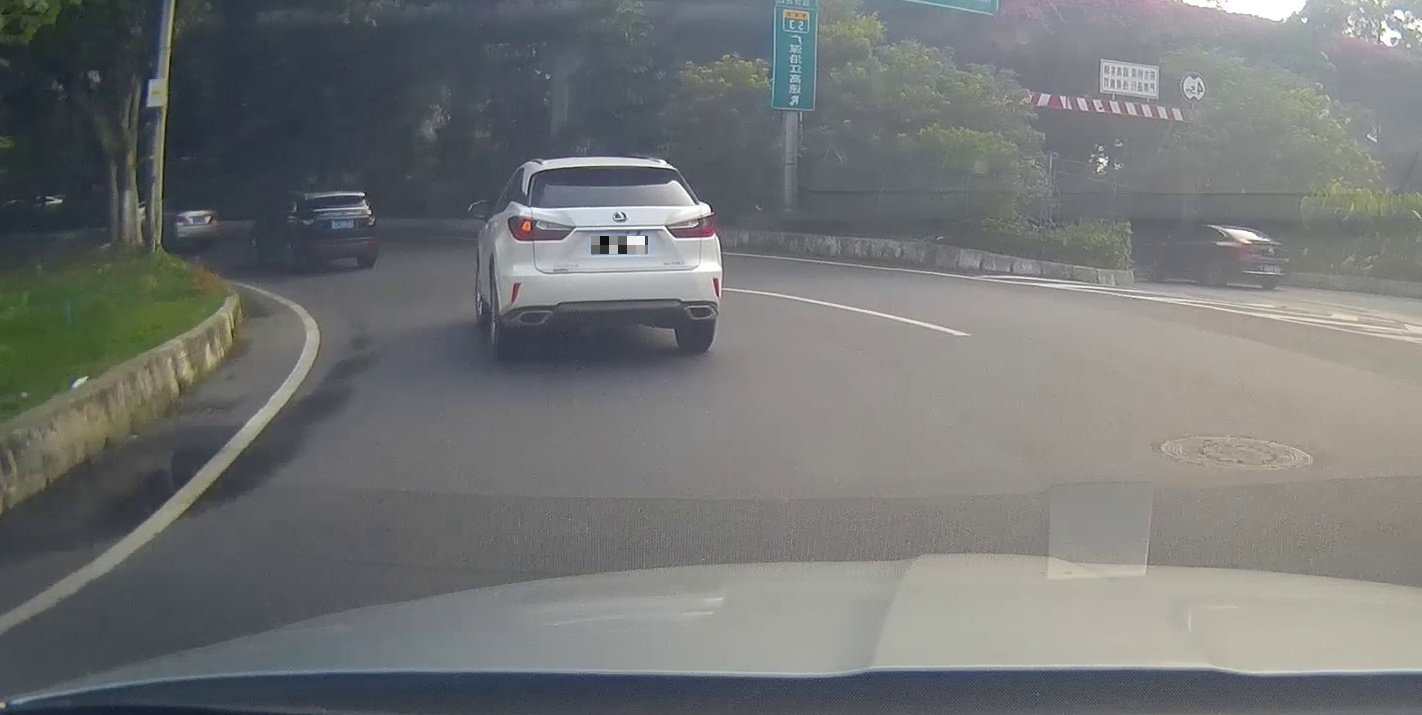L_light: (507, 215, 576, 241)
R_light: (665, 212, 716, 238)
T_light: (592, 166, 627, 171)
day-left: (499, 160, 723, 354)
plate_1: (591, 236, 648, 254)
